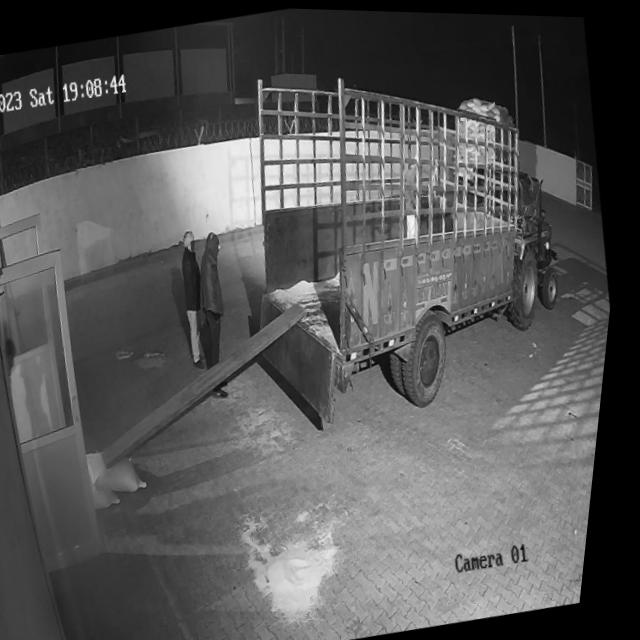sack: (93, 441, 161, 500)
